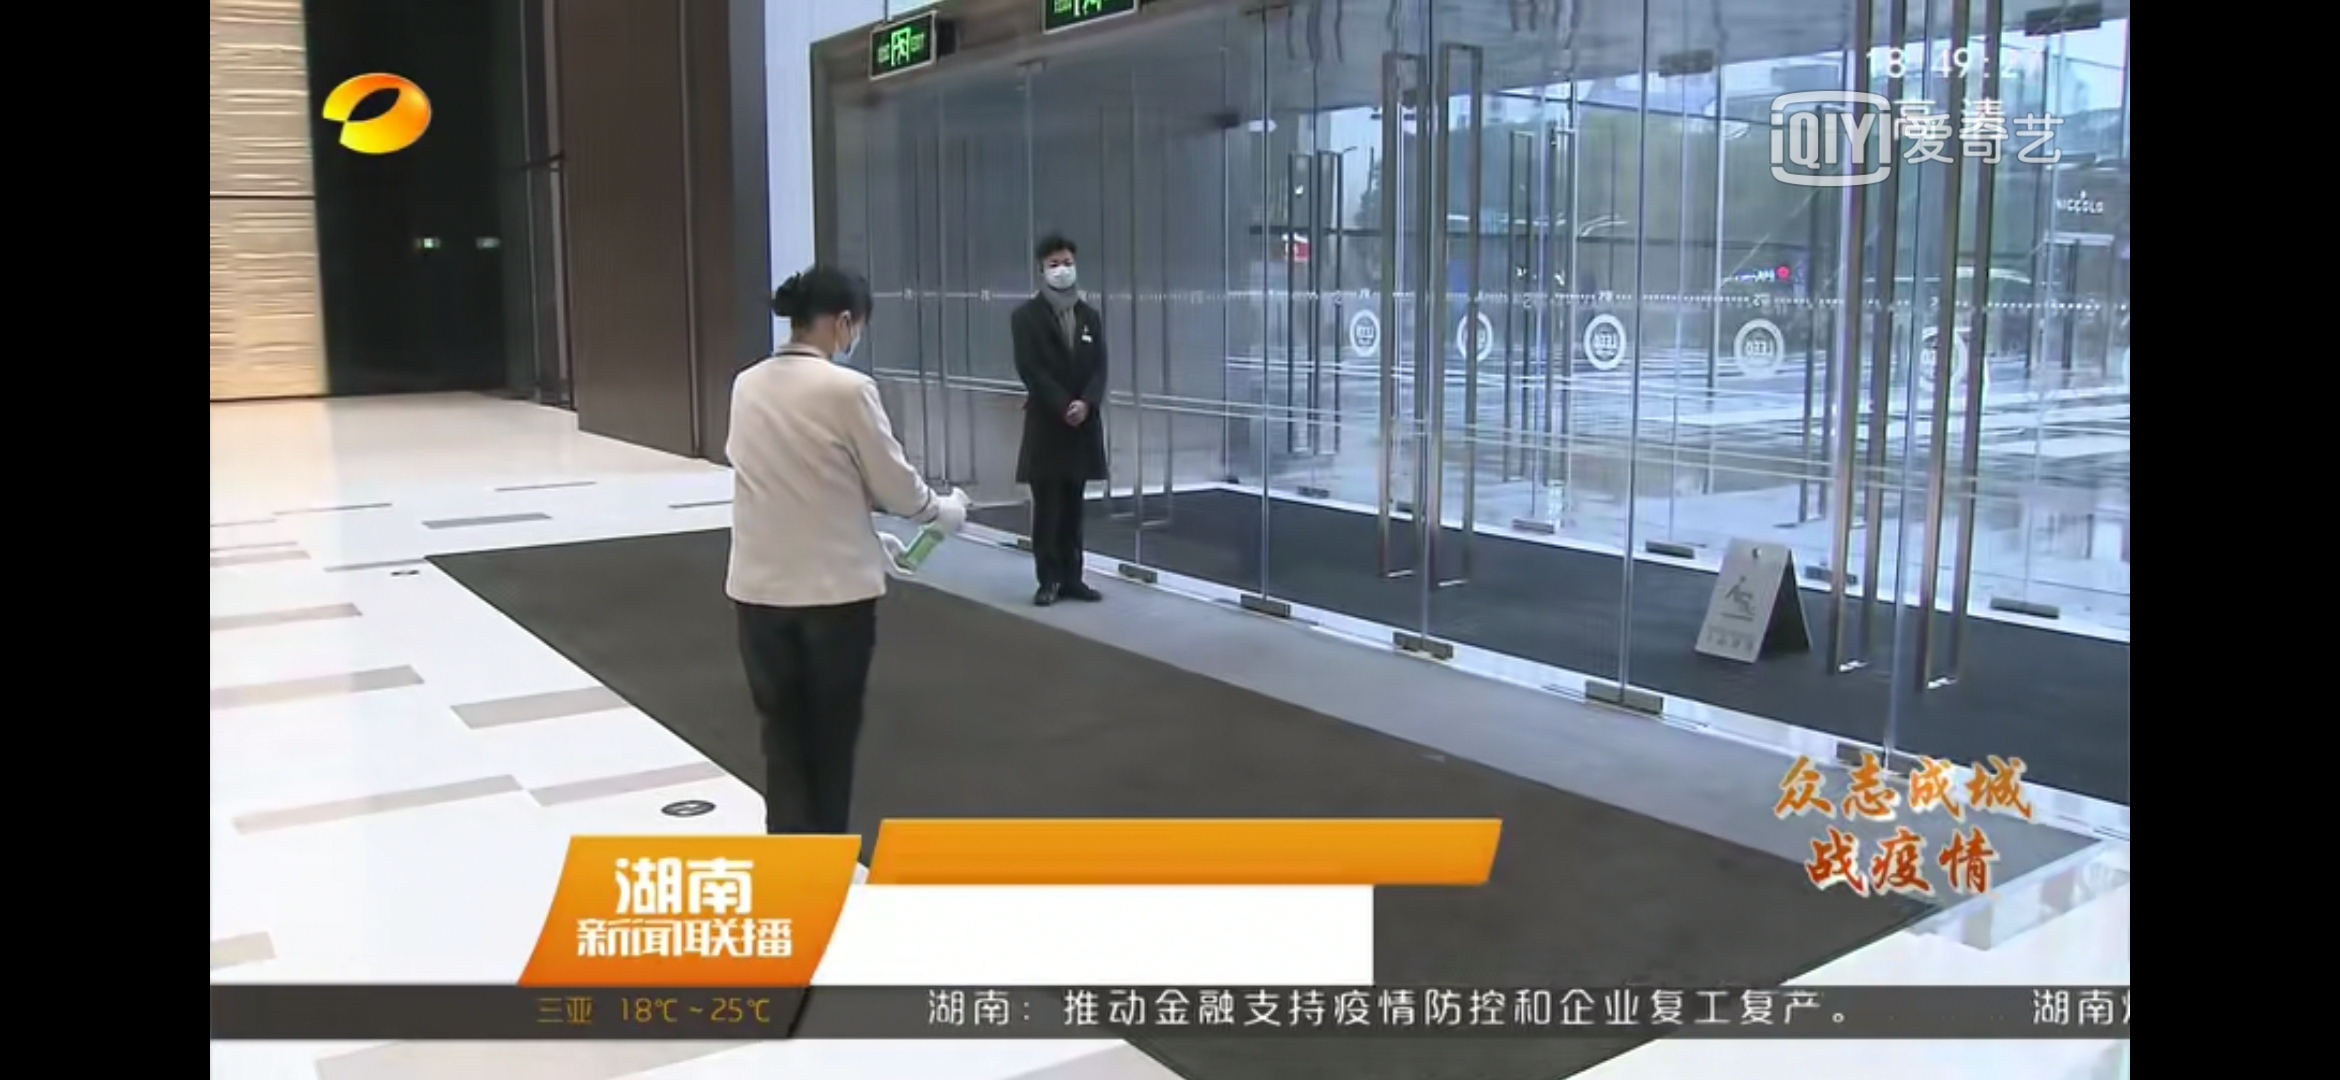correctlyWear: (822, 298, 869, 361), (1039, 254, 1077, 292)
